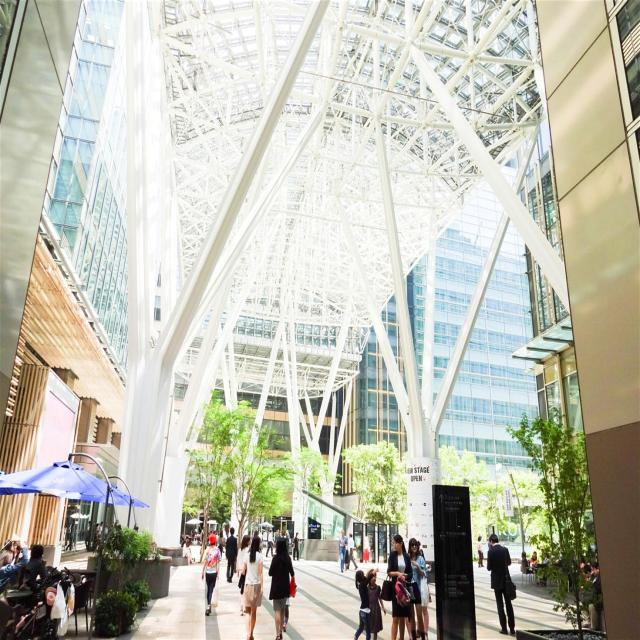body: (0, 516, 122, 606), (486, 533, 518, 635), (180, 526, 292, 554), (268, 536, 298, 640), (386, 533, 414, 640), (237, 535, 265, 639), (406, 536, 428, 640), (17, 544, 51, 608), (540, 552, 595, 589), (353, 565, 380, 640), (200, 532, 223, 618), (364, 567, 387, 640), (236, 534, 252, 617), (416, 538, 433, 603), (225, 527, 238, 583), (337, 528, 349, 574), (346, 532, 358, 572), (282, 582, 291, 632), (359, 531, 372, 564), (589, 560, 601, 594), (182, 538, 196, 566), (521, 551, 534, 575), (476, 535, 485, 569), (265, 528, 275, 558), (342, 537, 350, 572), (292, 532, 300, 561), (529, 550, 539, 568), (218, 531, 224, 560), (258, 528, 264, 554), (486, 536, 494, 551), (251, 529, 256, 541)
